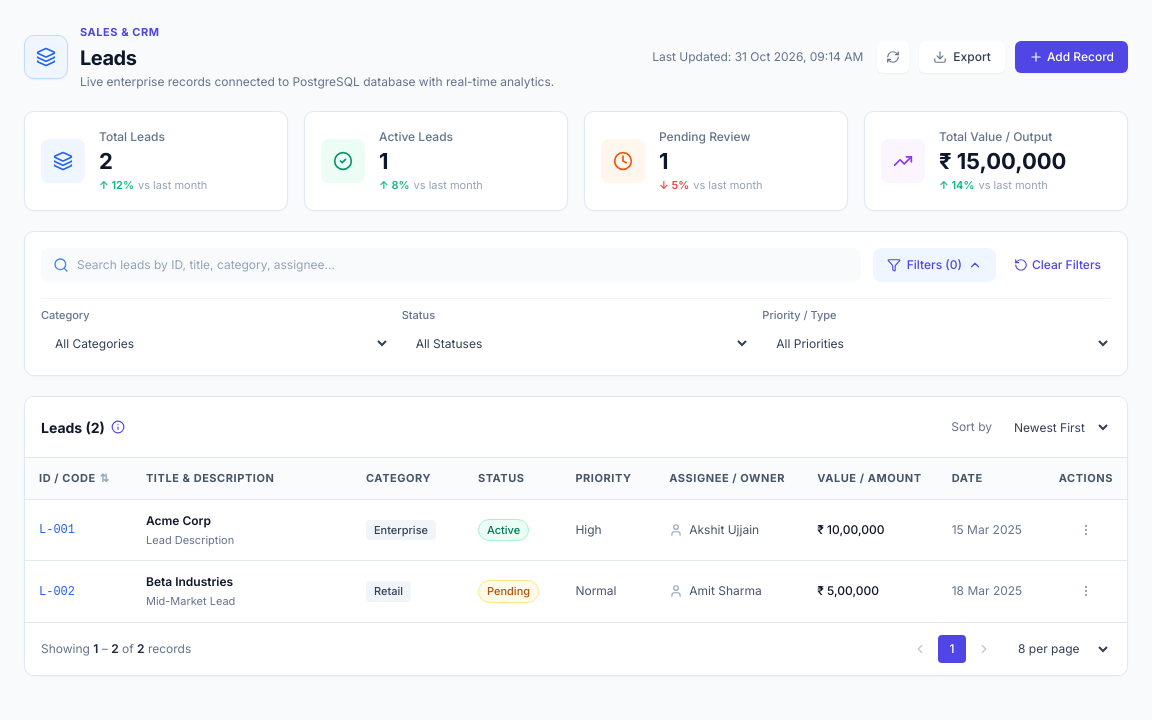
Test: Dynamic Module Engine (ModulePlaceholder) › filters records by search query
This screenshot has width=1152, height=720.
In the field with placeholder "Search leads by ID, title, category, assignee...": [451, 264] box [41,248,861,282], type "Beta"
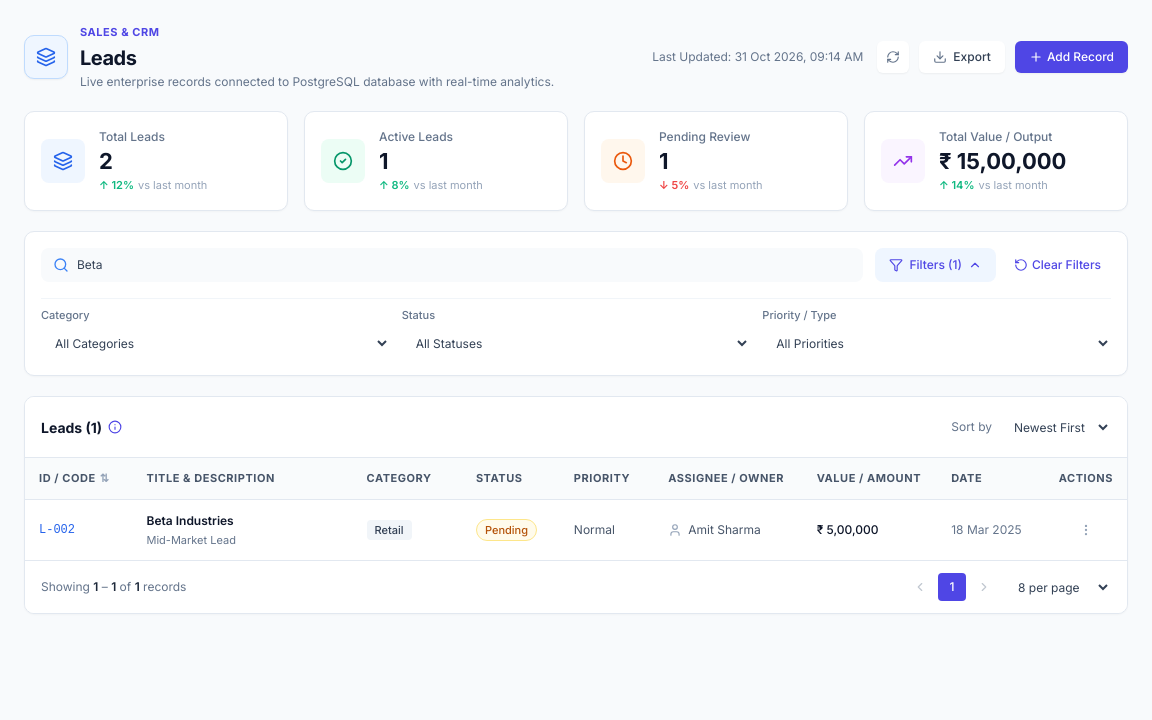
expect the text "Beta Industries" is shown: met, box [146,512,234,528]
expect the text "Acme Corp" is gone: met
